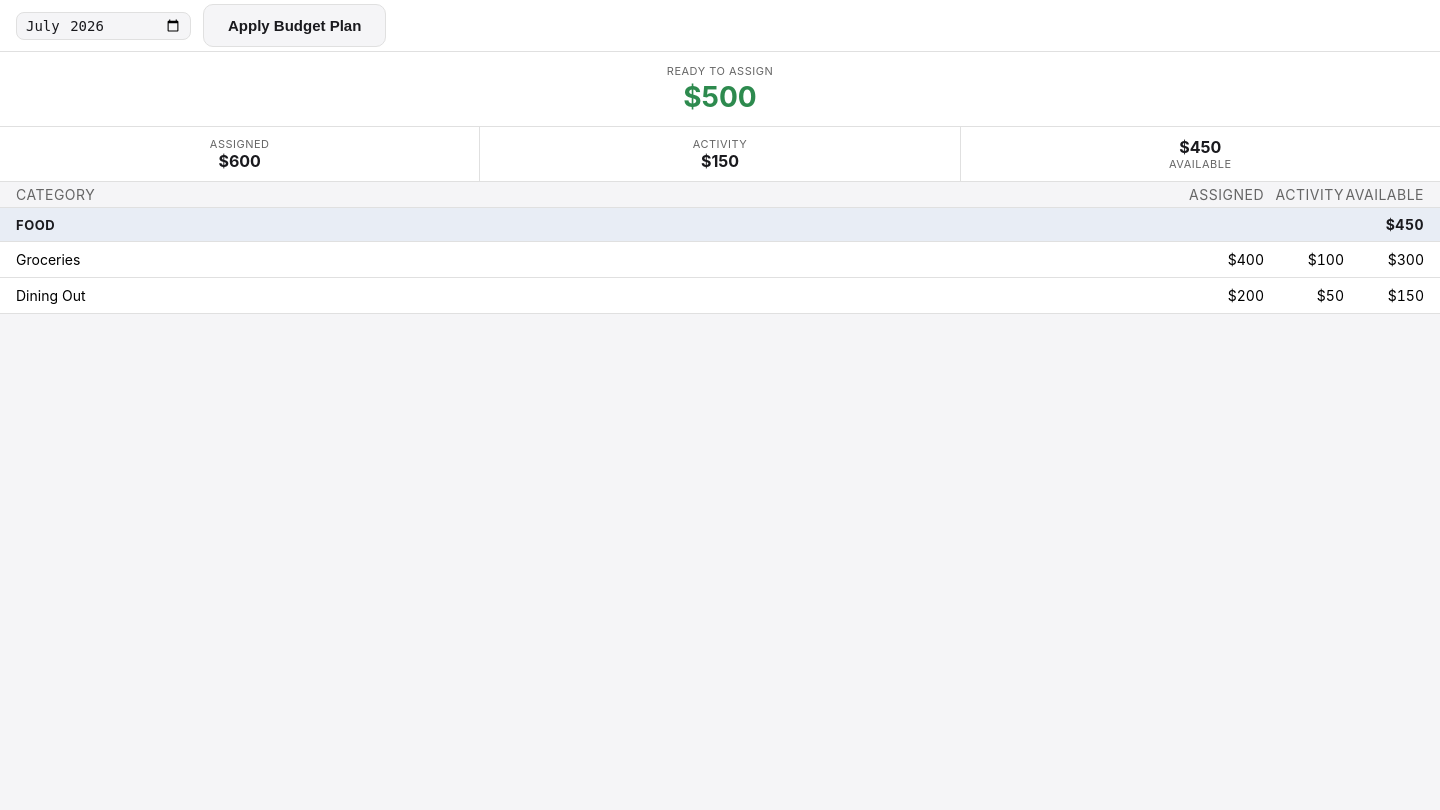
Plan screen — move money › shows Move Money button in assignment sheet
Click the button "Groceries $400 $100 $300" at [48, 260], box [0,242,1439,278]
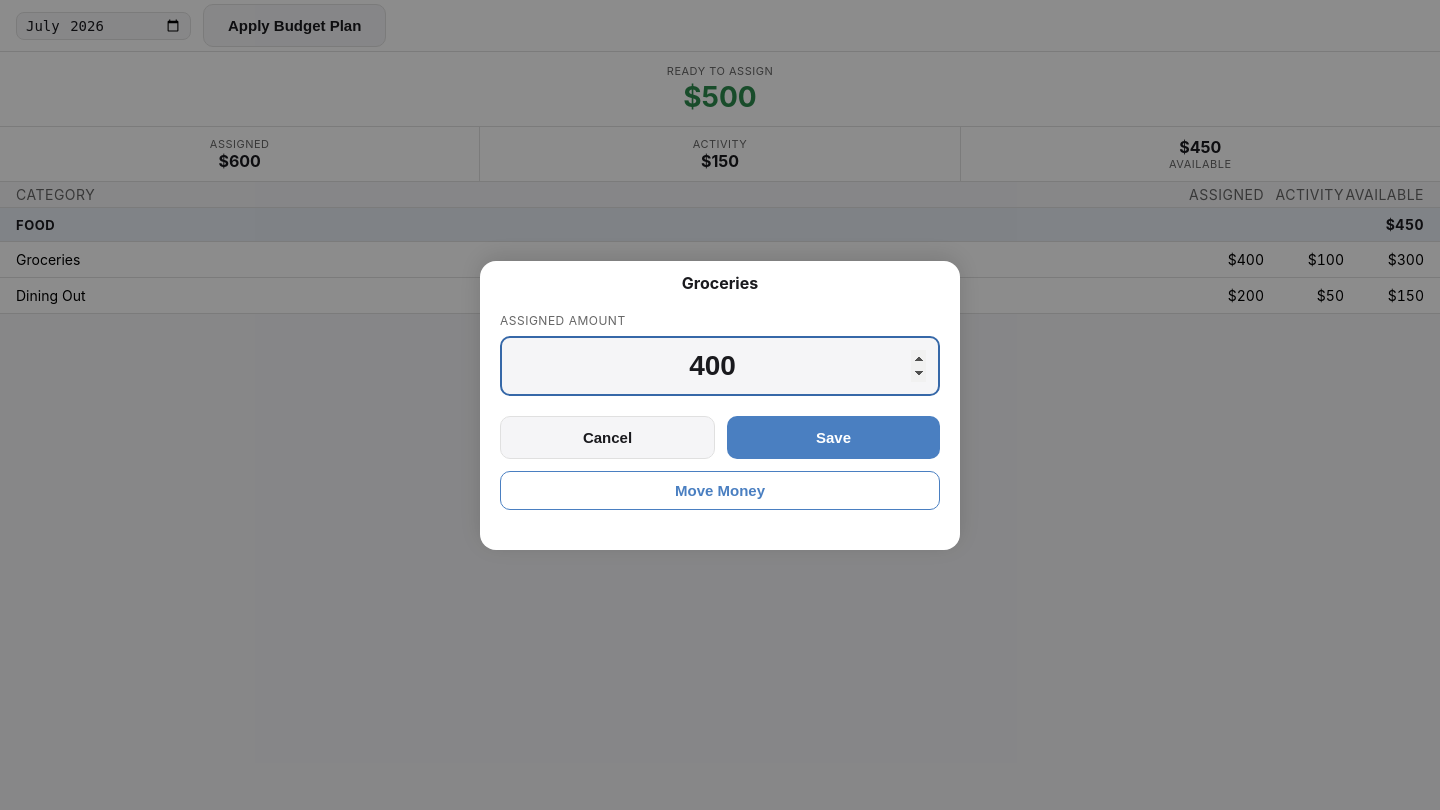
Result: the button "Move Money" is shown at [500,470,940,510]
